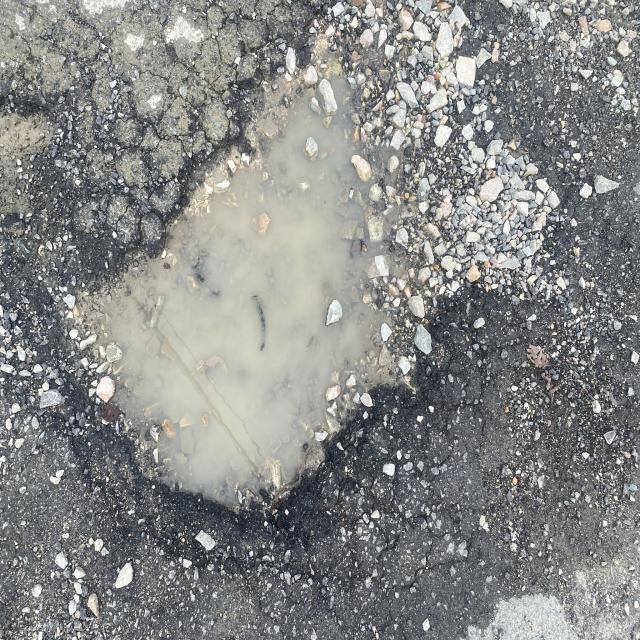Pothole: (26, 53, 506, 560)
